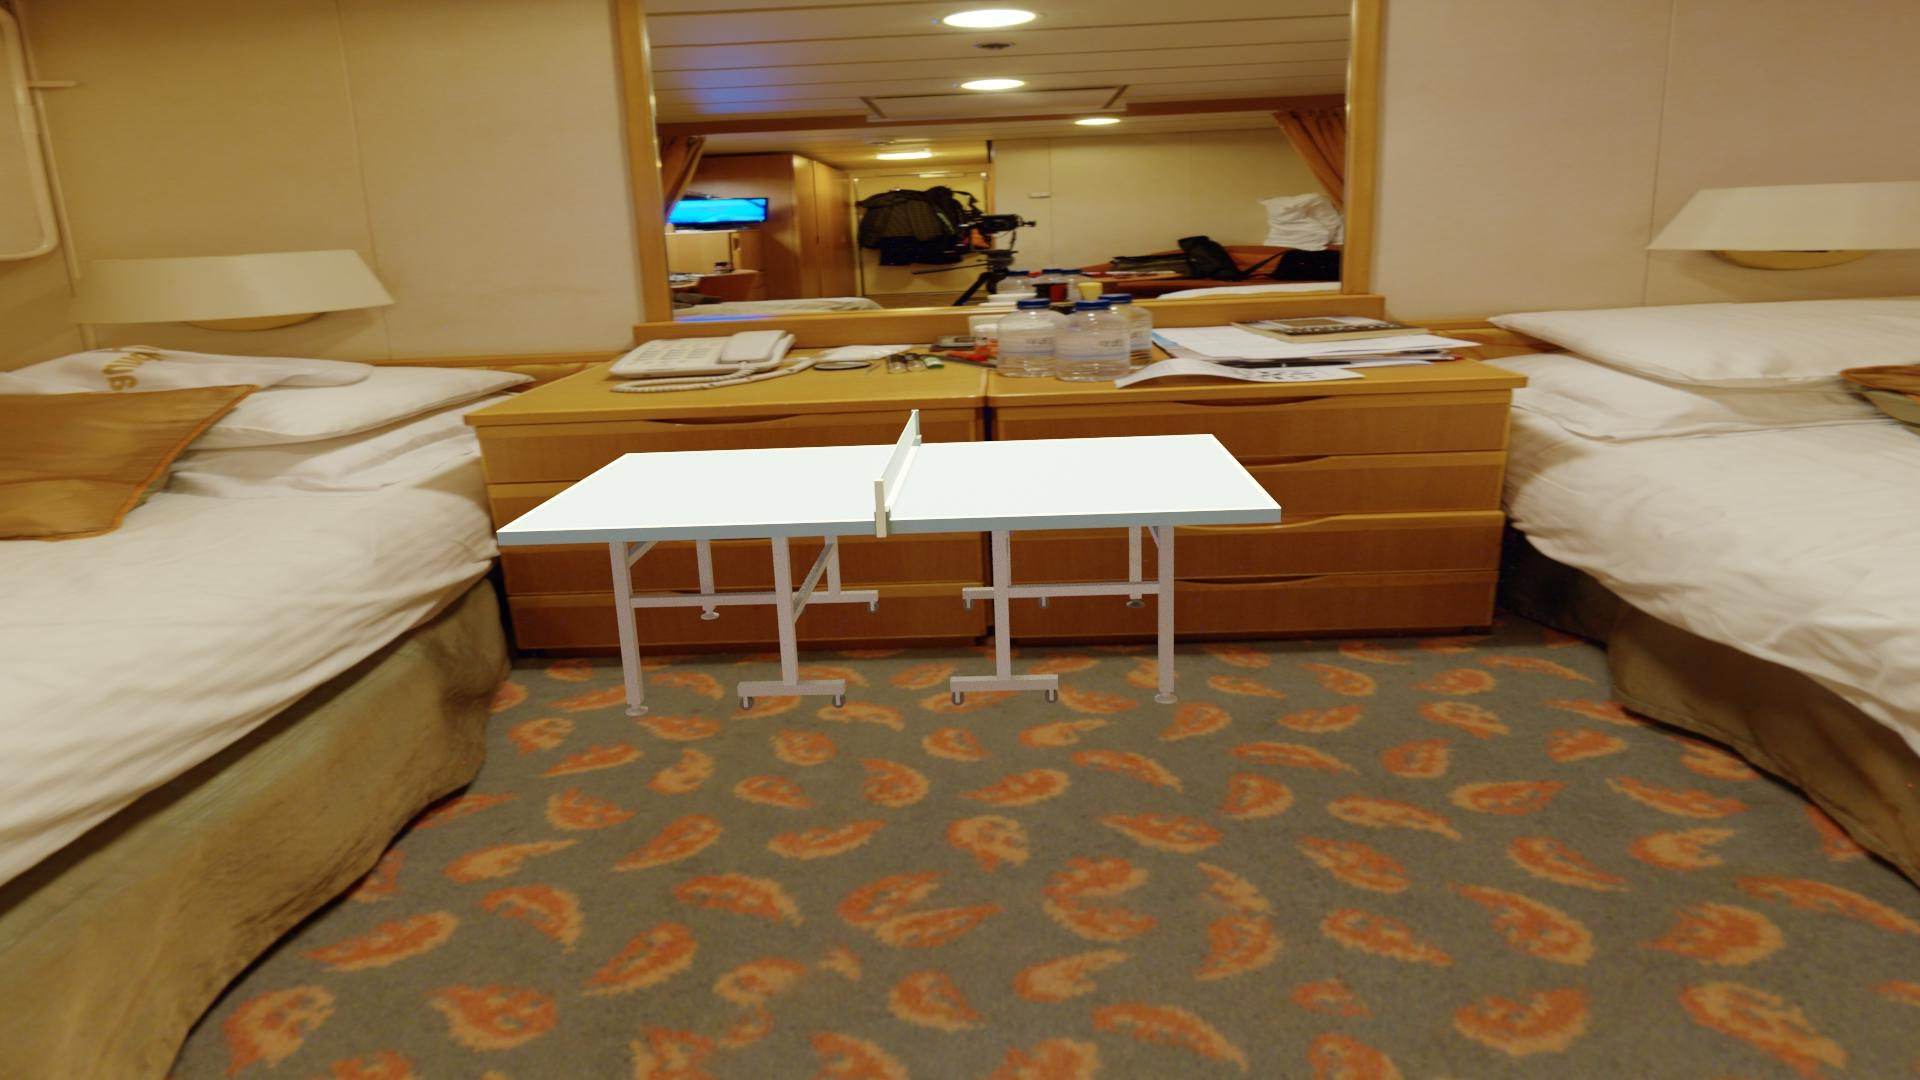table: (505, 435, 1274, 530)
